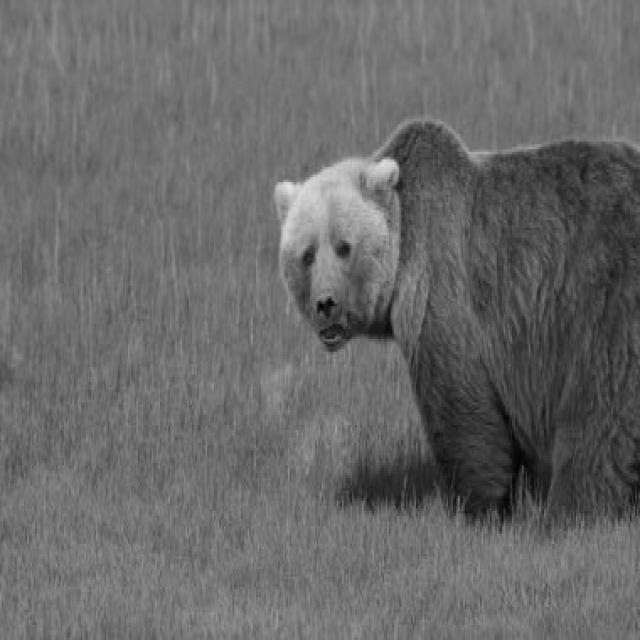Animal: (276, 122, 640, 523)
